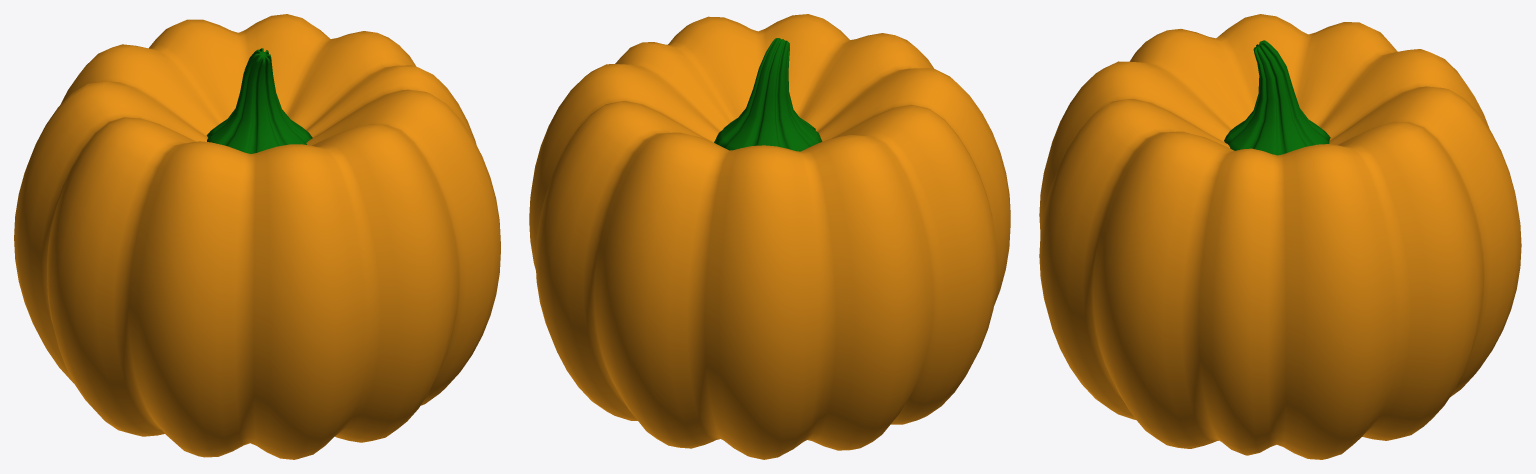
File: Pumpkin.fbx
3 views of the same model, side by side, from view 1: azimuth 30°, elevation 25°; view 2: azimuth 150°, elevation 25°; view 3: azimuth 270°, elevation 25° (orthographic).
Visible parts, largest first — view 1: Сфера, Окружность; view 2: Сфера, Окружность; view 3: Сфера, Окружность.
Boxes of the visible parts, x1,y1,x2,y2 form: Сфера: [14, 14, 500, 459]; Окружность: [206, 48, 312, 153]; Сфера: [529, 14, 1010, 459]; Окружность: [714, 38, 822, 151]; Сфера: [1039, 14, 1521, 459]; Окружность: [1224, 40, 1330, 155].
Bounding box in the file's own units: 386 × 316 × 386.
